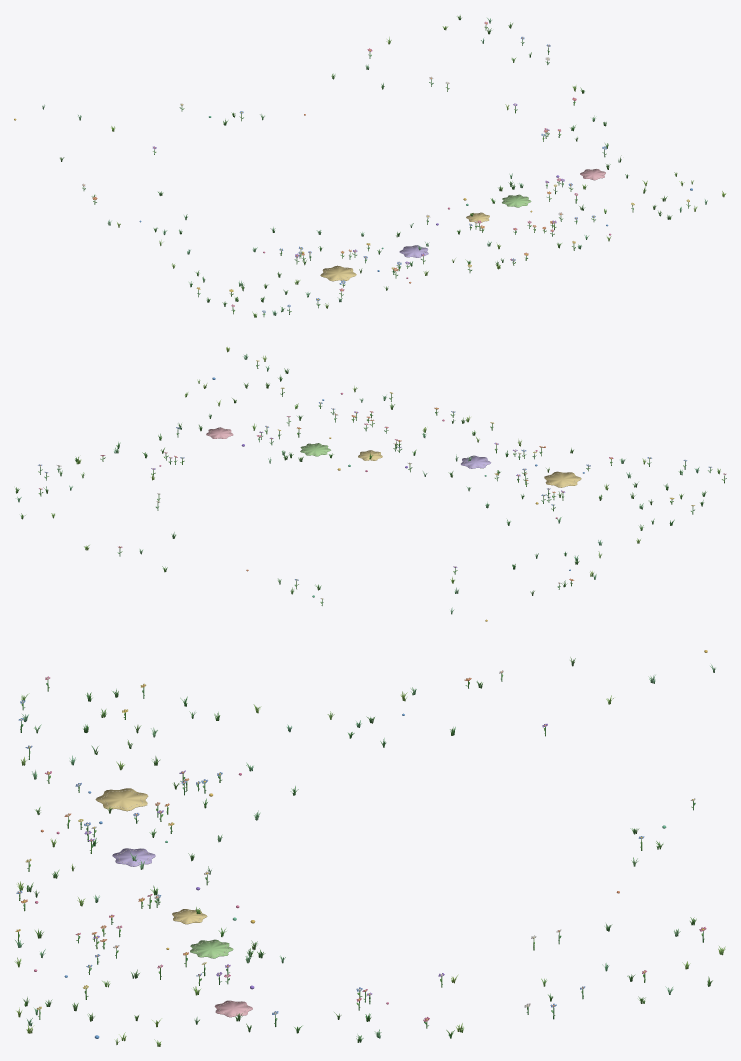
Rendered from W3_Flora.fbx.
3 renders of one model, top to bottom at view 1: azimuth 30°, elevation 25°; view 2: azimuth 150°, elevation 25°; view 3: azimuth 270°, elevation 25°, orthographic. The views are drawn at different scales.
Visible parts, largest first — view 1: W3_Flora; view 2: W3_Flora; view 3: W3_Flora.
Boxes of the visible parts, box(x1,y1,x2,y2) form: W3_Flora: box(14, 15, 726, 317); W3_Flora: box(15, 347, 726, 621); W3_Flora: box(14, 650, 725, 1046).
Bounding box in the file's own units: 7.59 × 0.6967 × 6.46.
